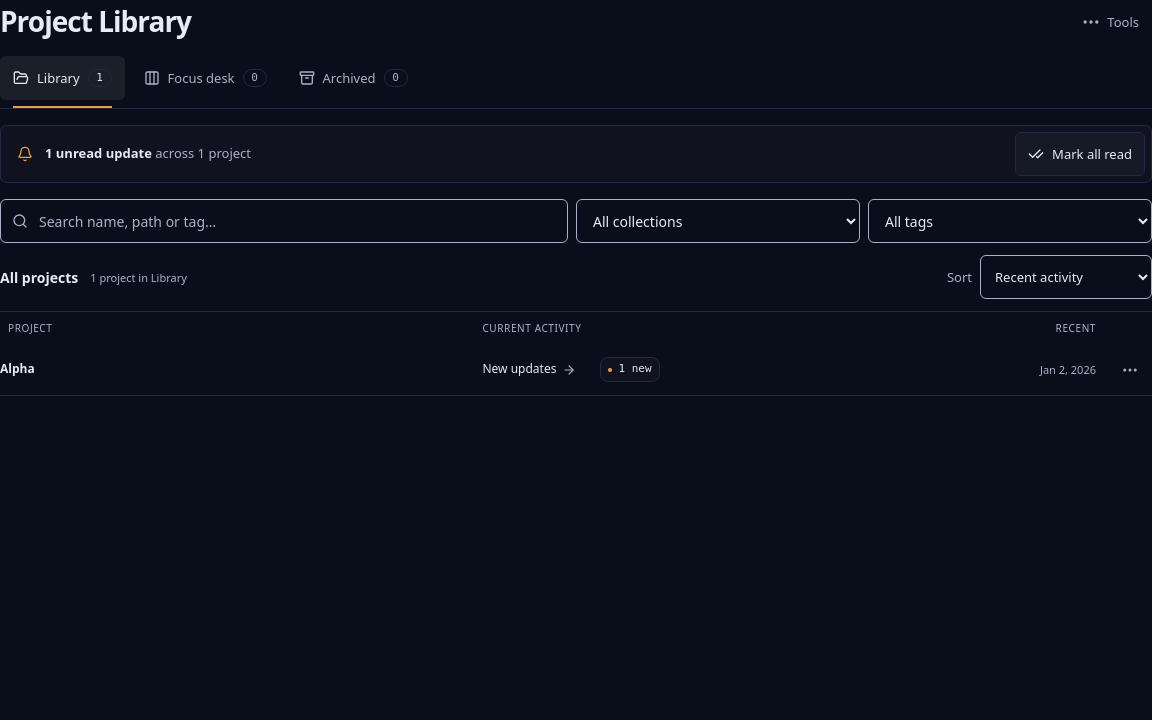
Test: project alert destinations › stays on unread when the New count is stale instead of falling back to old updates
Click the button "New updates": (530, 370) [474,348,584,392]
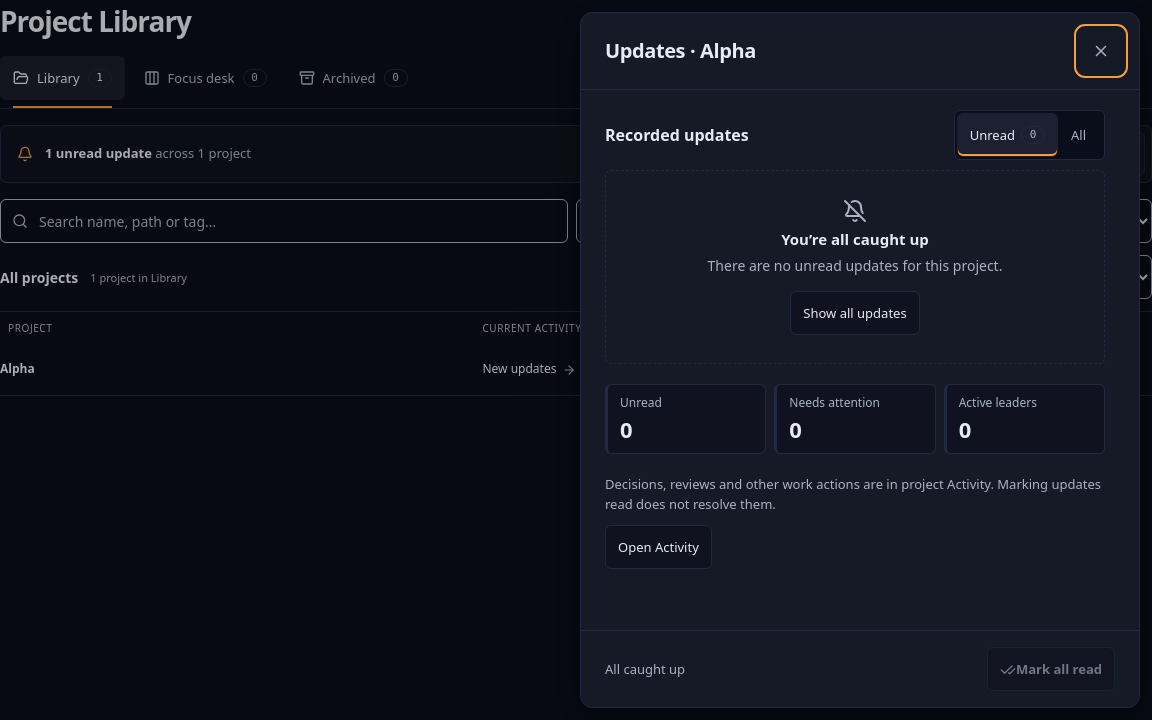
expect the text "You’re all caught up" is shown: met, box [781,229,929,249]
